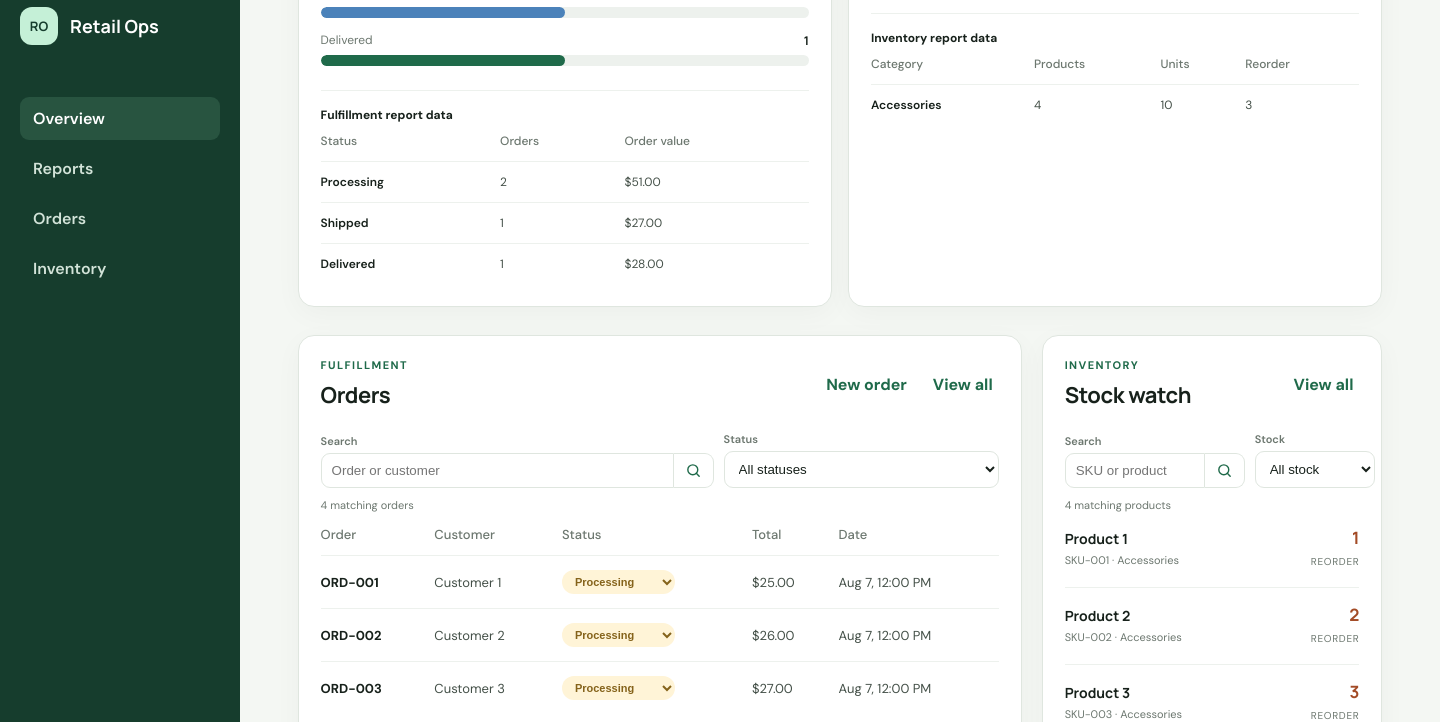
App › shows duplicate order feedback in the reserved form footer
(page scrolled)
Check: the text "ORD-001" is shown, box [321,556,434,608]
Click the button "New order" at (867, 384), box [820,372,913,396]
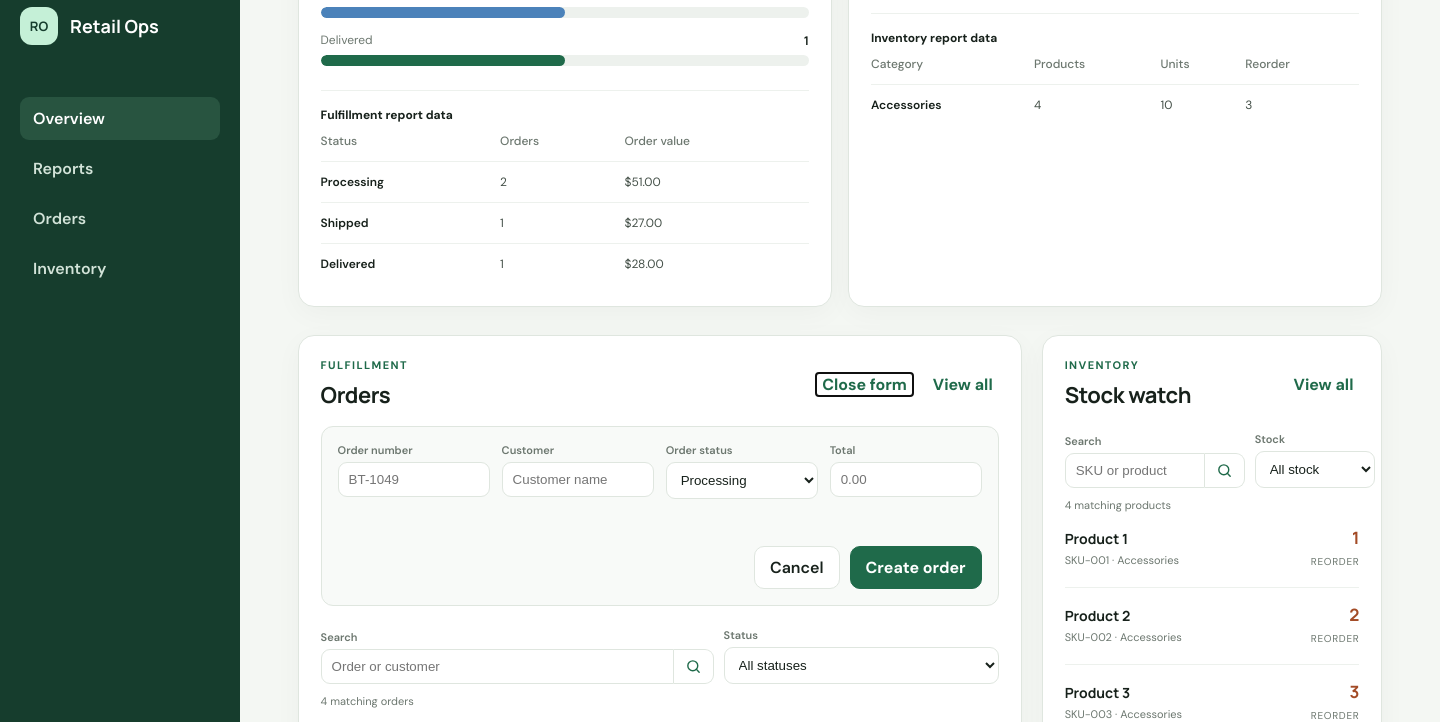
Type "BT-1048" into the field labelled "Order number" at (414, 480), box [338,462,490,497]
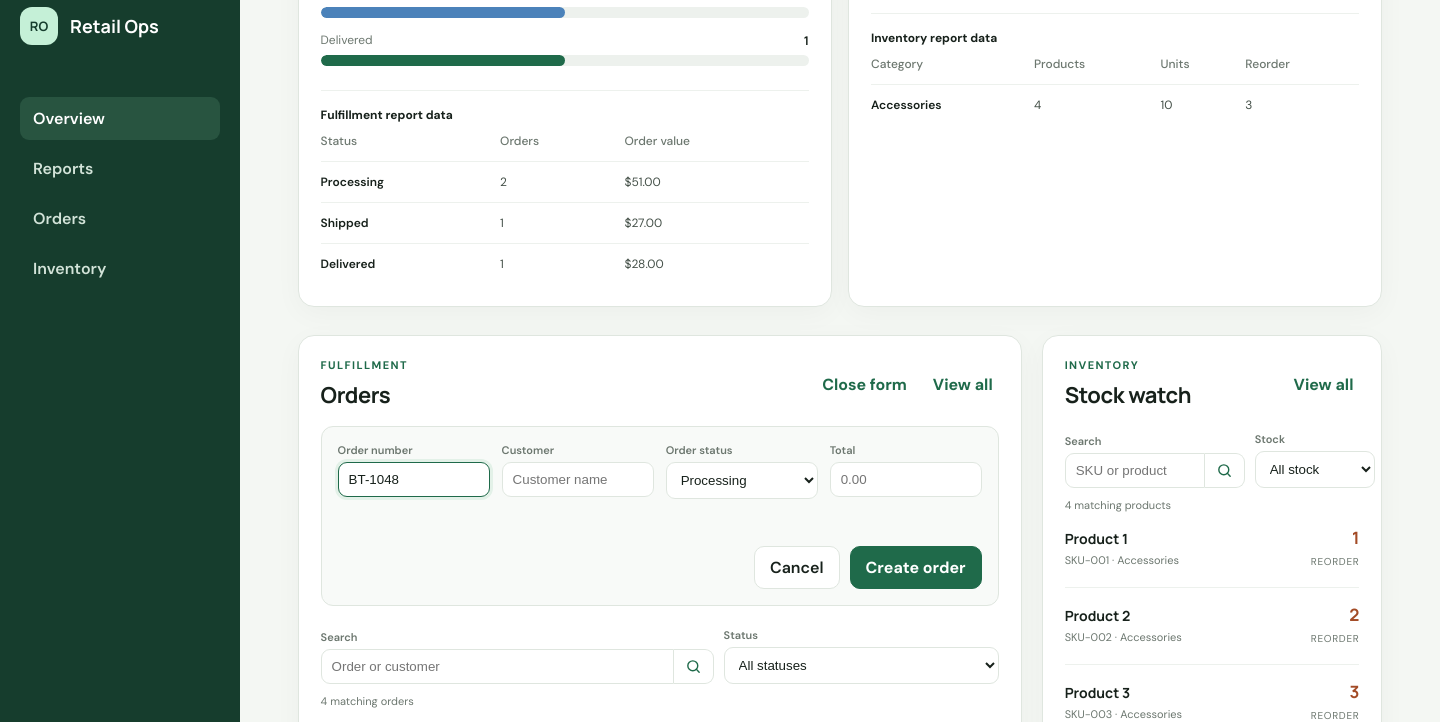
Type "Sample Customer" into the field labelled "Customer" at (578, 480), box [502,462,654,497]
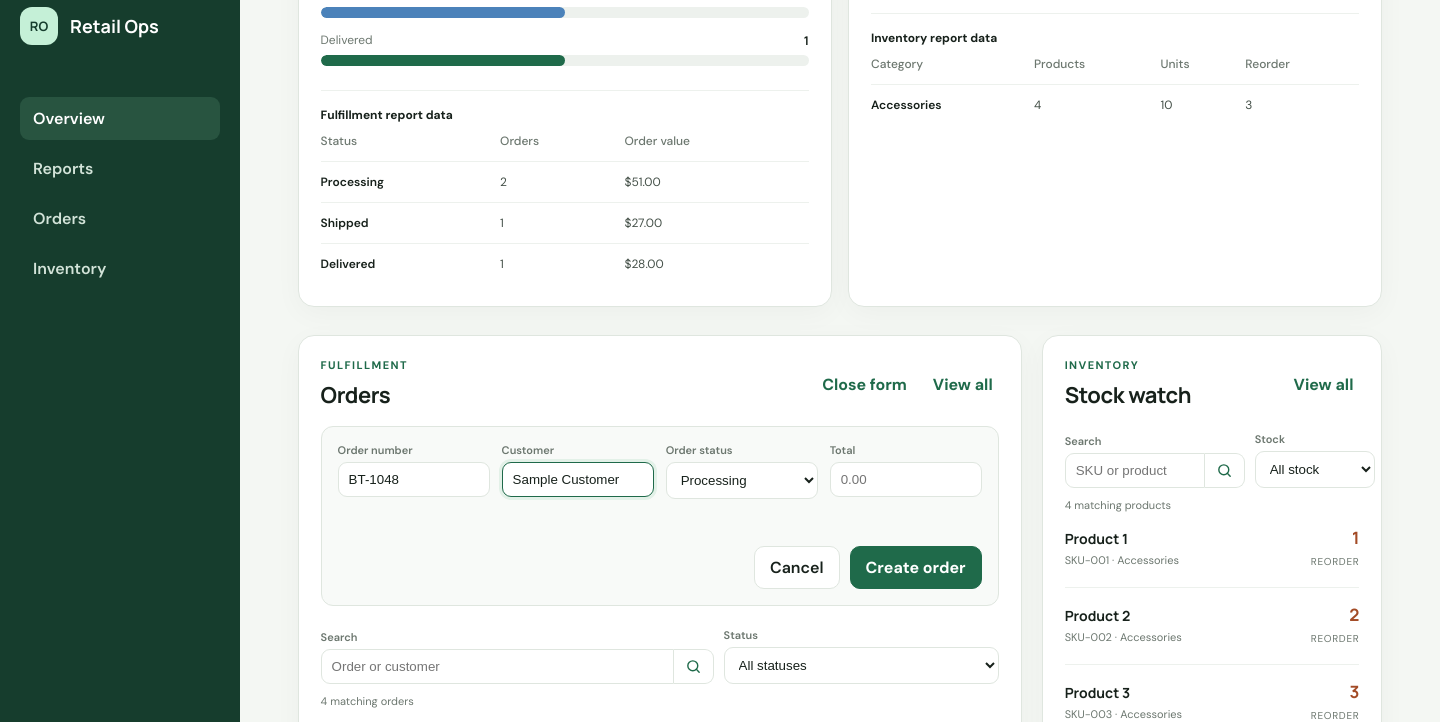
Type "7.00" into the number field labelled "Total" at (906, 480), box [830,462,982,497]
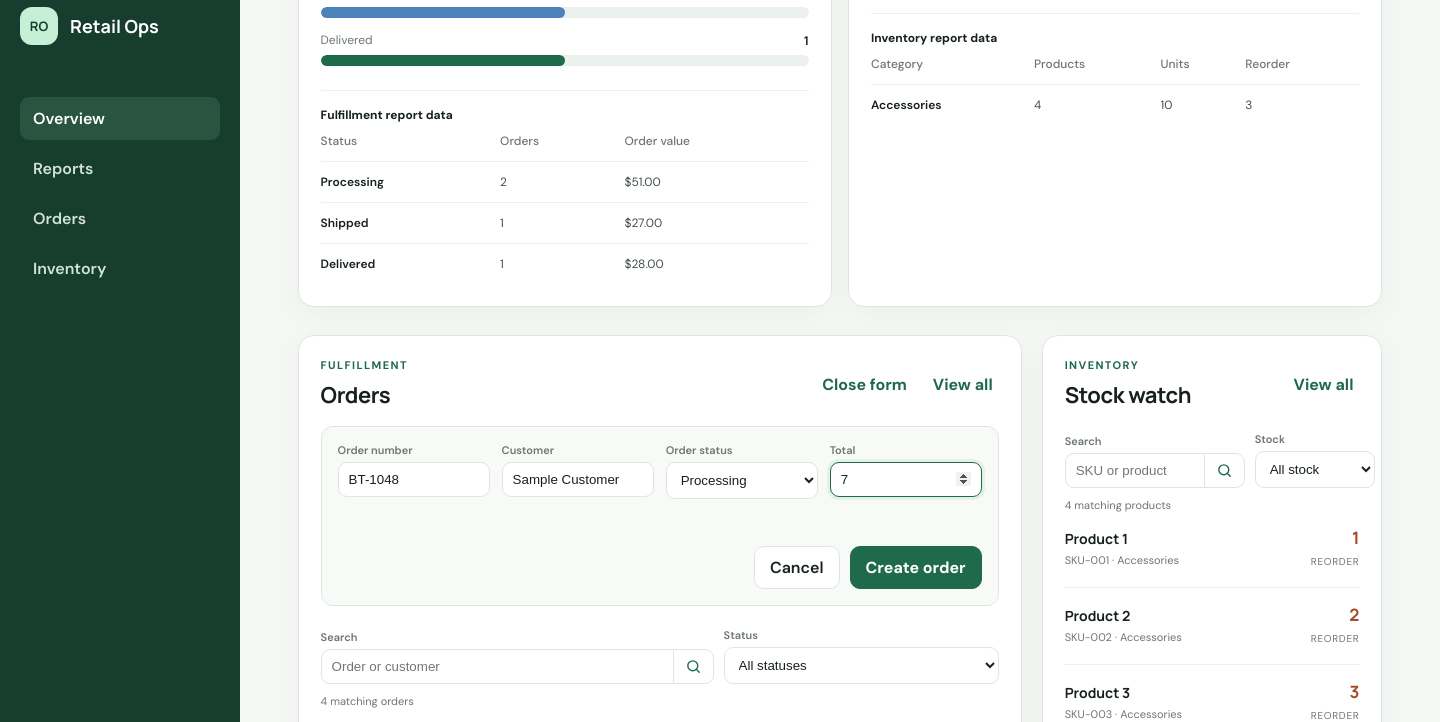
Click the button "Create order" at (916, 567), box [850,546,982,589]
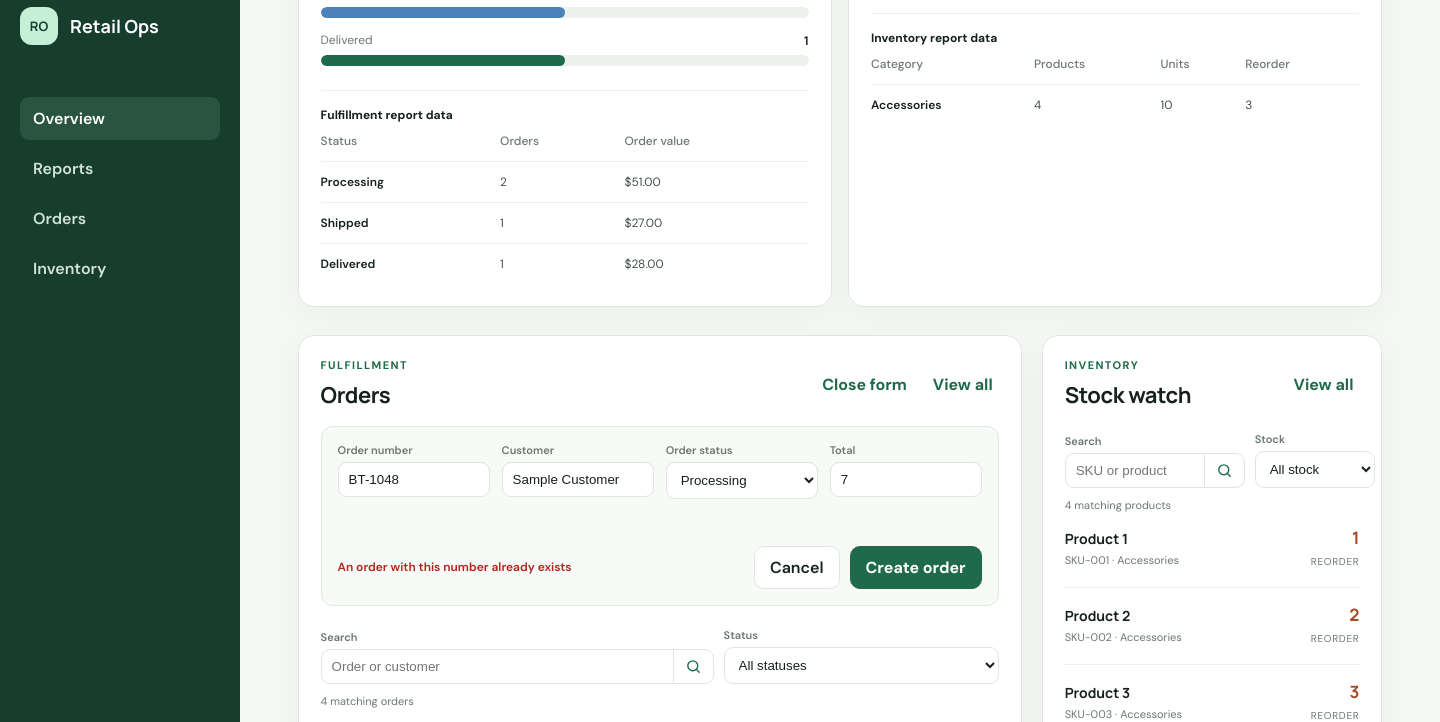
Check: the button "Cancel" is shown, box [754,546,840,589]
Check: the button "Create order" is shown, box [850,546,982,589]
Check: the message reads "An order with this number already exists", box [338,559,572,575]
